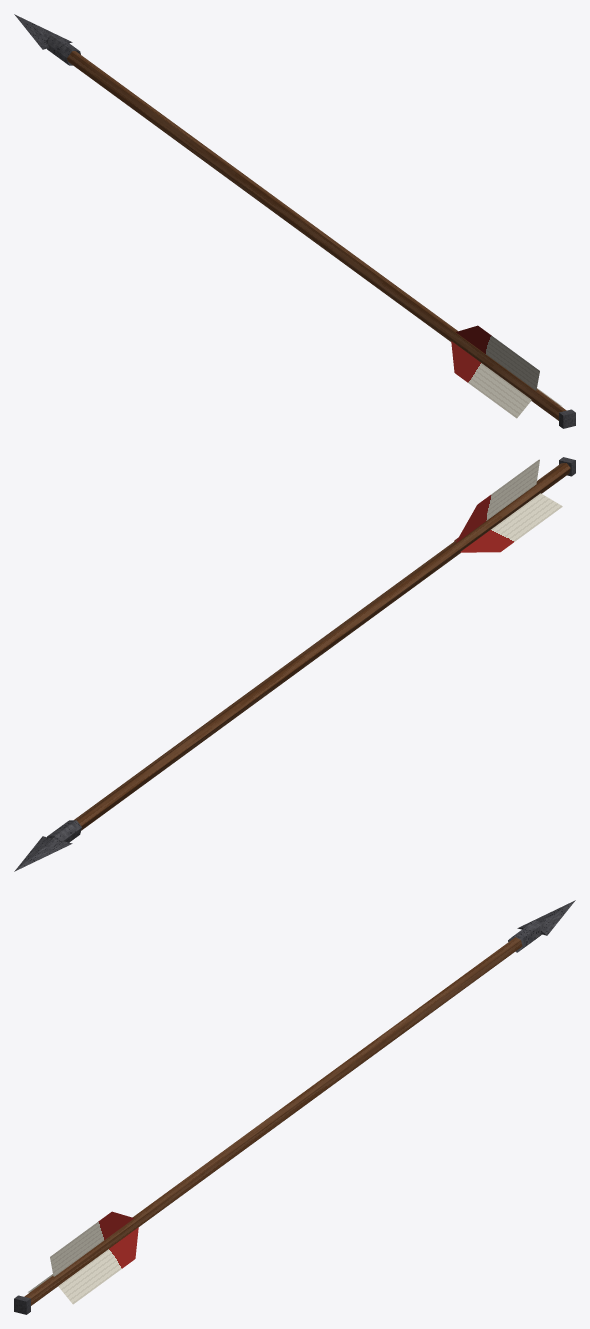
The model's file is arrow.glb.
The picture shows the model from 3 angles, top to bottom: view 1: azimuth 30°, elevation 25°; view 2: azimuth 150°, elevation 25°; view 3: azimuth 330°, elevation 25°; orthographic projection.
Visible parts, largest first — view 1: W_Arrow; view 2: W_Arrow; view 3: W_Arrow.
Boxes of the visible parts, x1=… form: W_Arrow: x1=14, y1=14, x2=575, y2=428; W_Arrow: x1=14, y1=457, x2=575, y2=871; W_Arrow: x1=14, y1=900, x2=575, y2=1314.
Size of the model in its own units: 0.0367 by 0.0318 by 0.761.
Materials: 3 (3 with a texture image).
